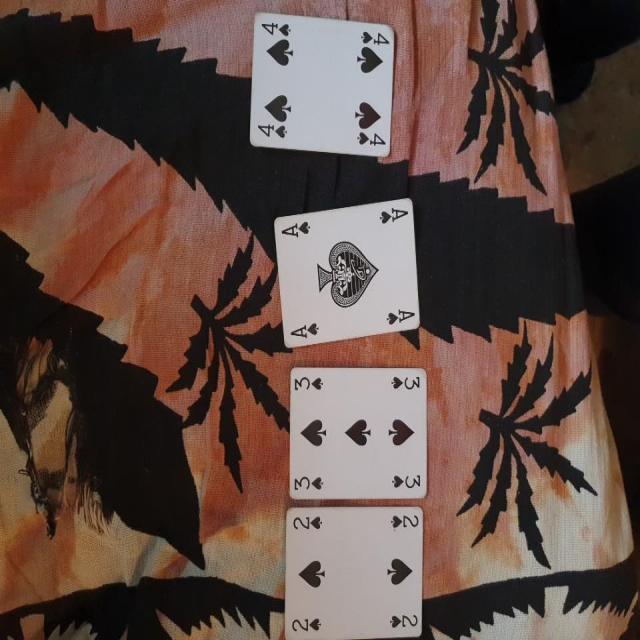2 Spades: (275, 502, 435, 640)
3 Spades: (285, 361, 431, 505)
4 Spades: (244, 8, 401, 163)
A Spades: (267, 187, 430, 351)
